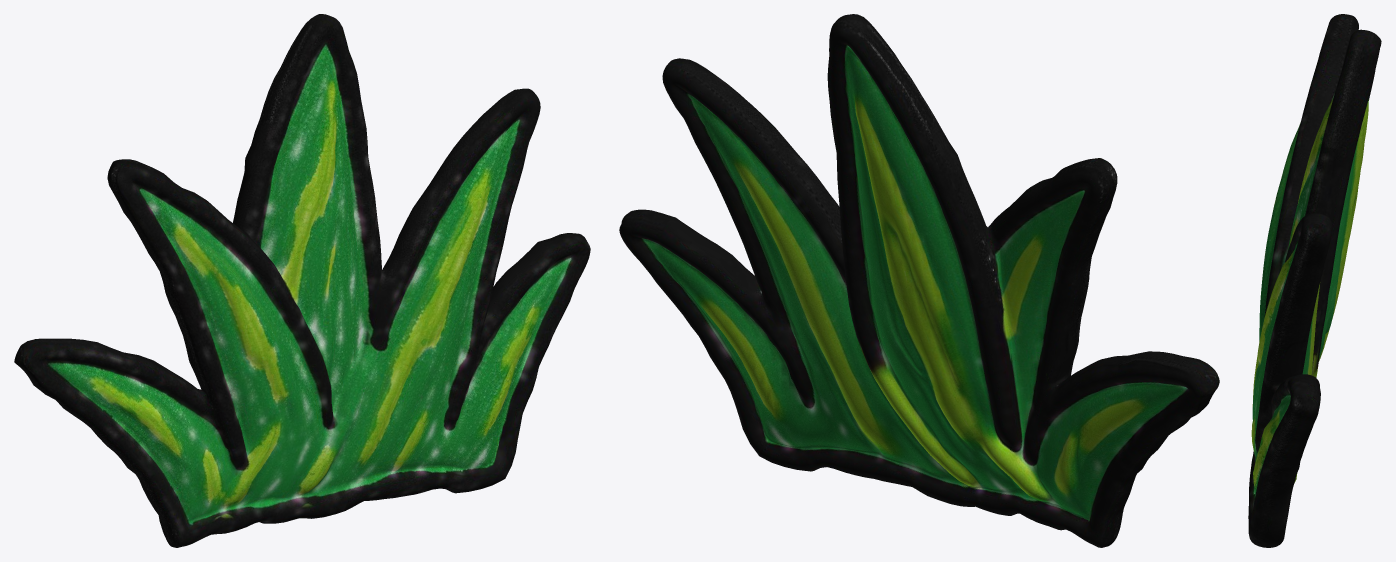
Rendered from grass.glb.
The picture shows the model from 3 angles, left to right: view 1: azimuth 30°, elevation 25°; view 2: azimuth 150°, elevation 25°; view 3: azimuth 270°, elevation 25°; orthographic projection. The views are drawn at different scales.
Parts seen in each view (by area): view 1: tripo_node_dd289ce8-02d8-41de-833b-6ad2c2377e7e; view 2: tripo_node_dd289ce8-02d8-41de-833b-6ad2c2377e7e; view 3: tripo_node_dd289ce8-02d8-41de-833b-6ad2c2377e7e.
Boxes of the visible parts, left/top/right/bottom form: tripo_node_dd289ce8-02d8-41de-833b-6ad2c2377e7e: left=14, top=14, right=590, bottom=547; tripo_node_dd289ce8-02d8-41de-833b-6ad2c2377e7e: left=619, top=14, right=1219, bottom=547; tripo_node_dd289ce8-02d8-41de-833b-6ad2c2377e7e: left=1248, top=14, right=1381, bottom=547.
Bounding box in the file's own units: 0.979 × 0.7826 × 0.2057.
Materials: 1 (1 with a texture image).
